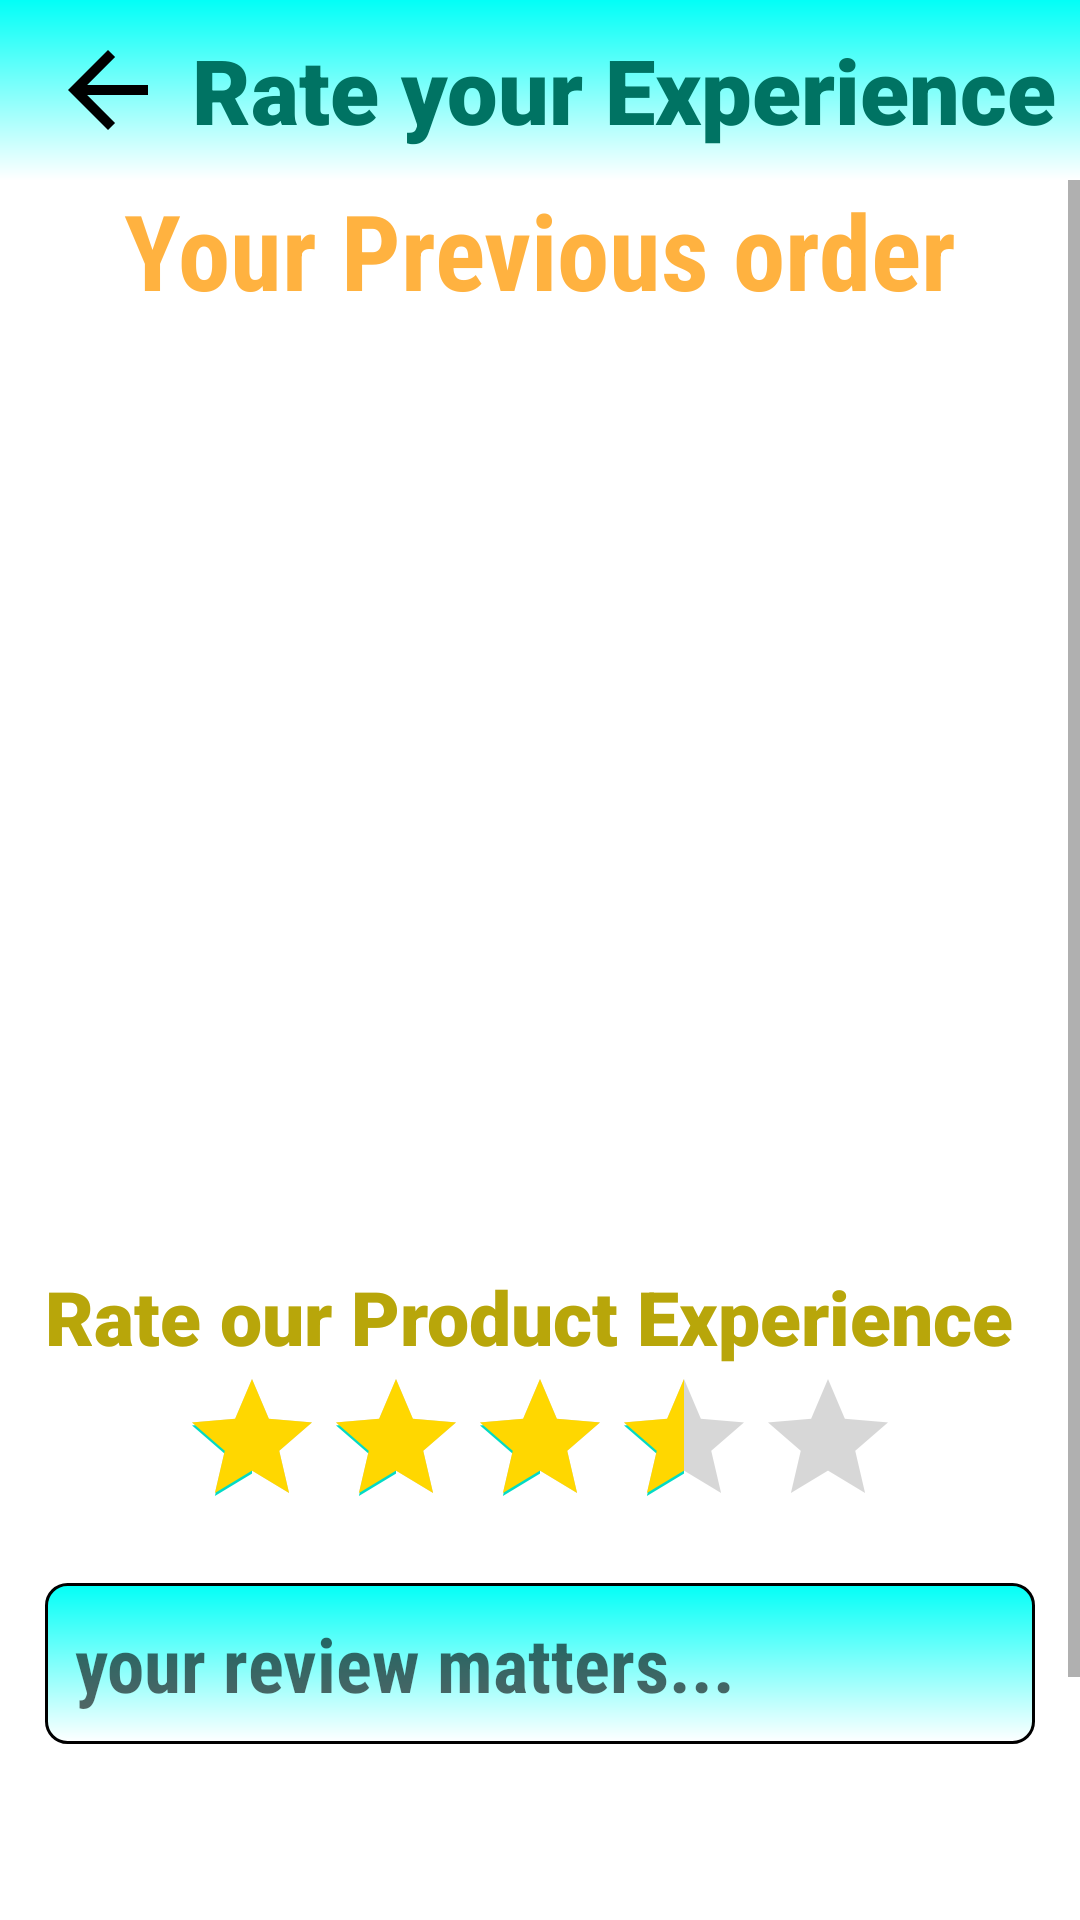

Point at icon controls on the screen. Image size 1080x1920, points as [x,y].
back: [108,90]
